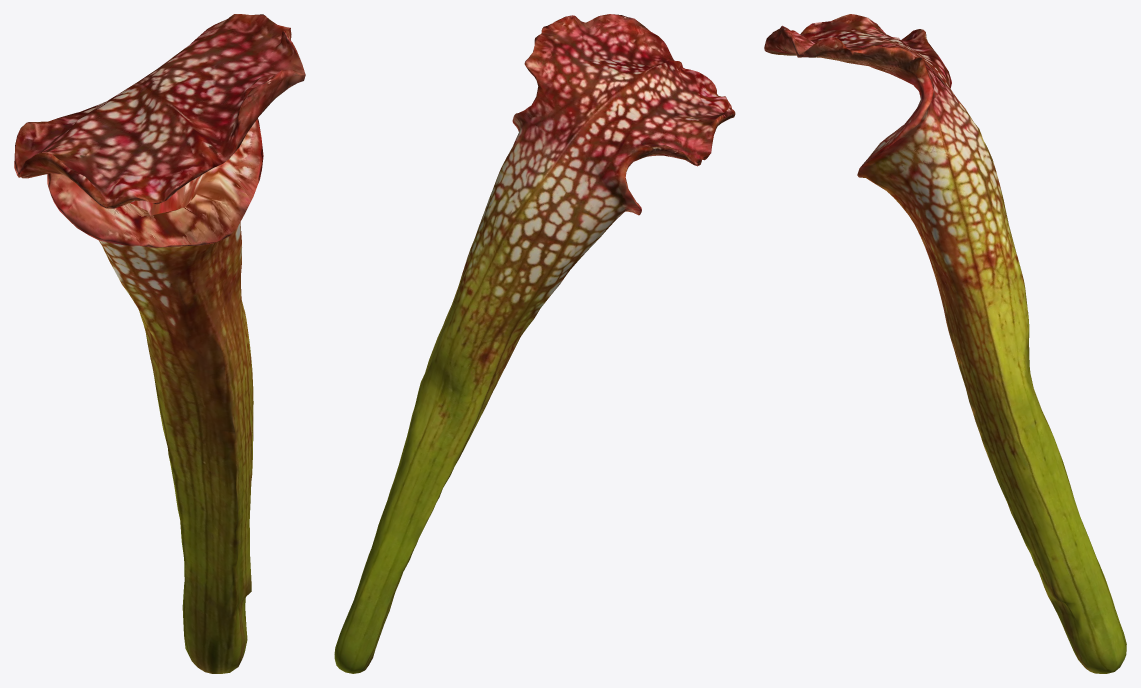
The model's file is ccby-pitcher-plant.glb.
The picture shows the model from 3 angles, left to right: view 1: azimuth 30°, elevation 25°; view 2: azimuth 150°, elevation 25°; view 3: azimuth 270°, elevation 25°; orthographic projection. The views are drawn at different scales.
Parts seen in each view (by area): view 1: Object_2; view 2: Object_2; view 3: Object_2.
Boxes of the visible parts, x1=… form: Object_2: x1=14, y1=14, x2=305, y2=673; Object_2: x1=334, y1=14, x2=735, y2=673; Object_2: x1=764, y1=14, x2=1126, y2=673.
Bounding box in the file's own units: 219 × 456 × 252.
1 material, 1 textured.
